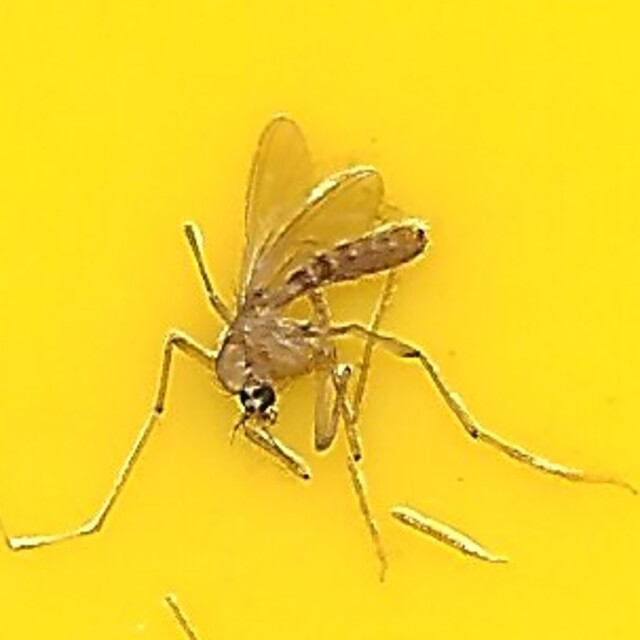Nematocera: (211, 221, 429, 419)
